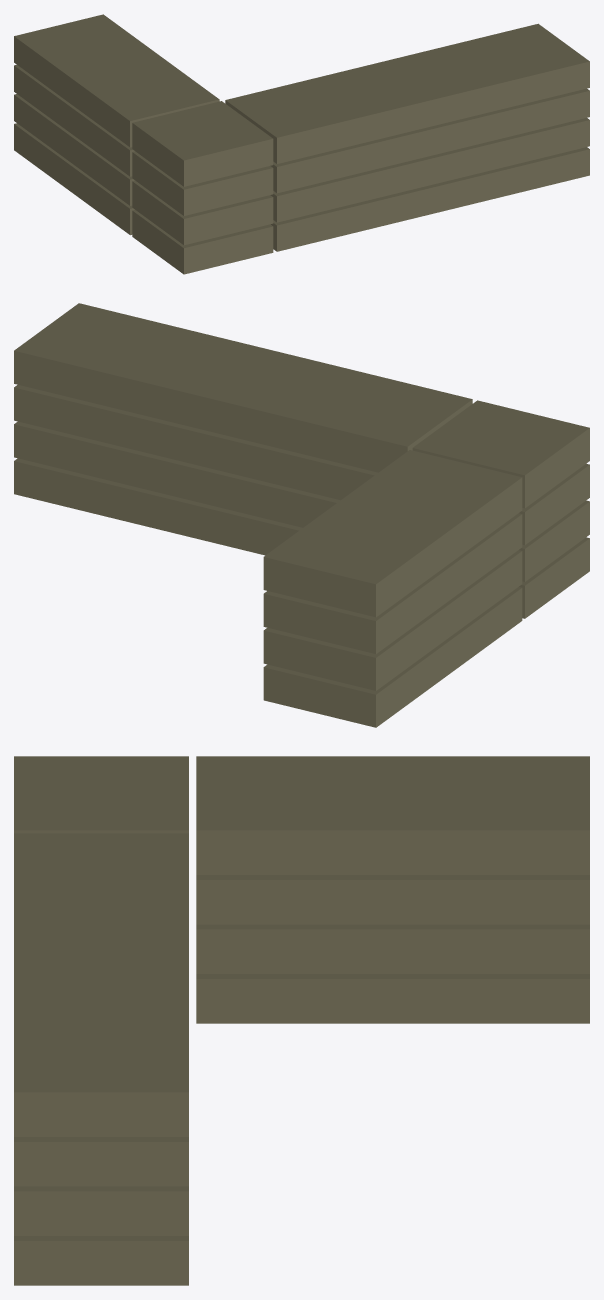
The model's file is SM_PretilEsquinaPaso_v0_Recto_e0_Sano_LOD1.fbx.
3 renders of one model, top to bottom at view 1: azimuth 30°, elevation 25°; view 2: azimuth 150°, elevation 25°; view 3: azimuth 270°, elevation 25°, orthographic. The views are drawn at different scales.
Visible parts, largest first — view 1: SM_pretil_azotea_v40_LOD1; view 2: SM_pretil_azotea_v40_LOD1; view 3: SM_pretil_azotea_v40_LOD1.
Part boxes in pixels (x1=…): SM_pretil_azotea_v40_LOD1: x1=14, y1=14, x2=589, y2=274; SM_pretil_azotea_v40_LOD1: x1=14, y1=303, x2=589, y2=727; SM_pretil_azotea_v40_LOD1: x1=14, y1=756, x2=589, y2=1285.
Size of the model in its own units: 4.36 by 1.17 by 3.16.
